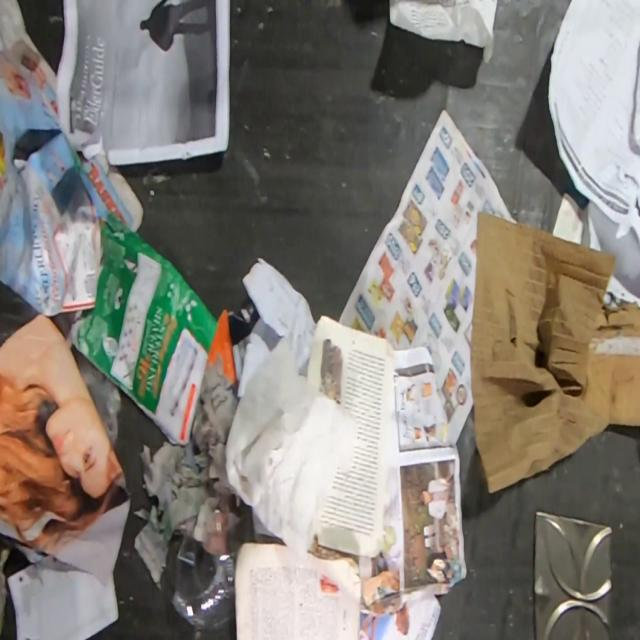cardboard: (469, 207, 640, 496), (69, 209, 220, 445), (200, 301, 260, 395)
metal: (532, 509, 612, 640)
rigid_plastic: (170, 510, 244, 631)
